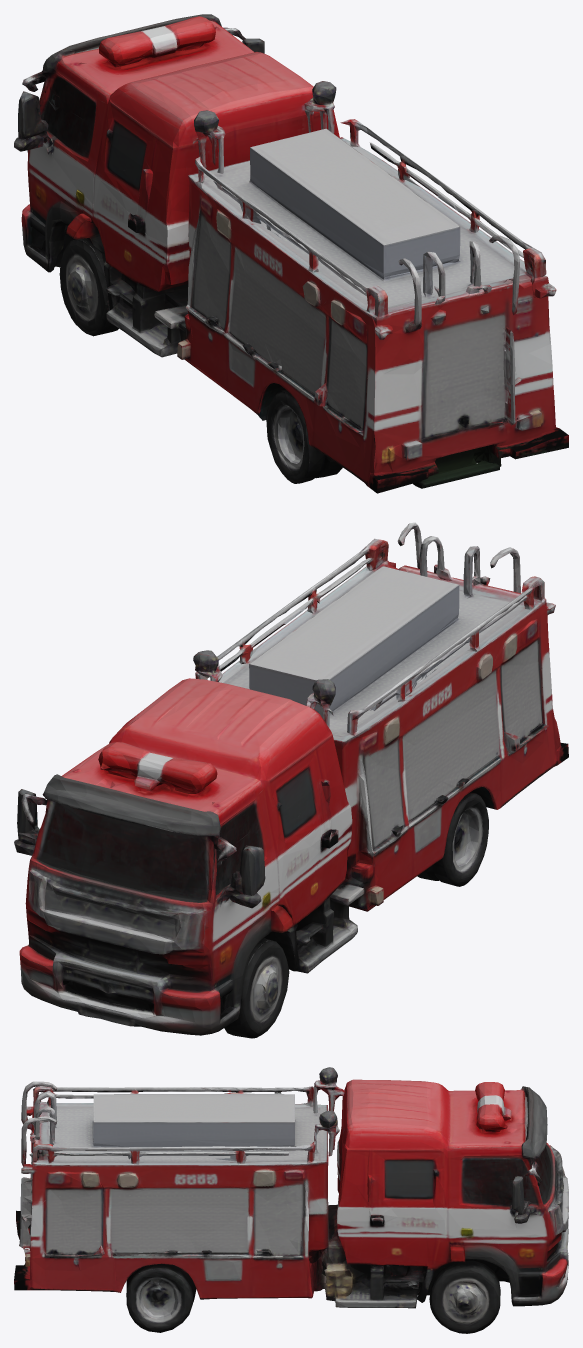
The model's file is firetruck.glb.
3 views of the same model, one above another, from view 1: azimuth 30°, elevation 25°; view 2: azimuth 150°, elevation 25°; view 3: azimuth 270°, elevation 25° (orthographic). The views are drawn at different scales.
Visible parts, largest first — view 1: world; view 2: world; view 3: world.
Boxes of the visible parts, x1=… form: world: x1=14, y1=14, x2=568, y2=493; world: x1=14, y1=522, x2=568, y2=1038; world: x1=14, y1=1067, x2=568, y2=1333.
Bounding box in the file's own units: 0.3864 × 0.4194 × 0.9996.
1 material, 1 textured.
